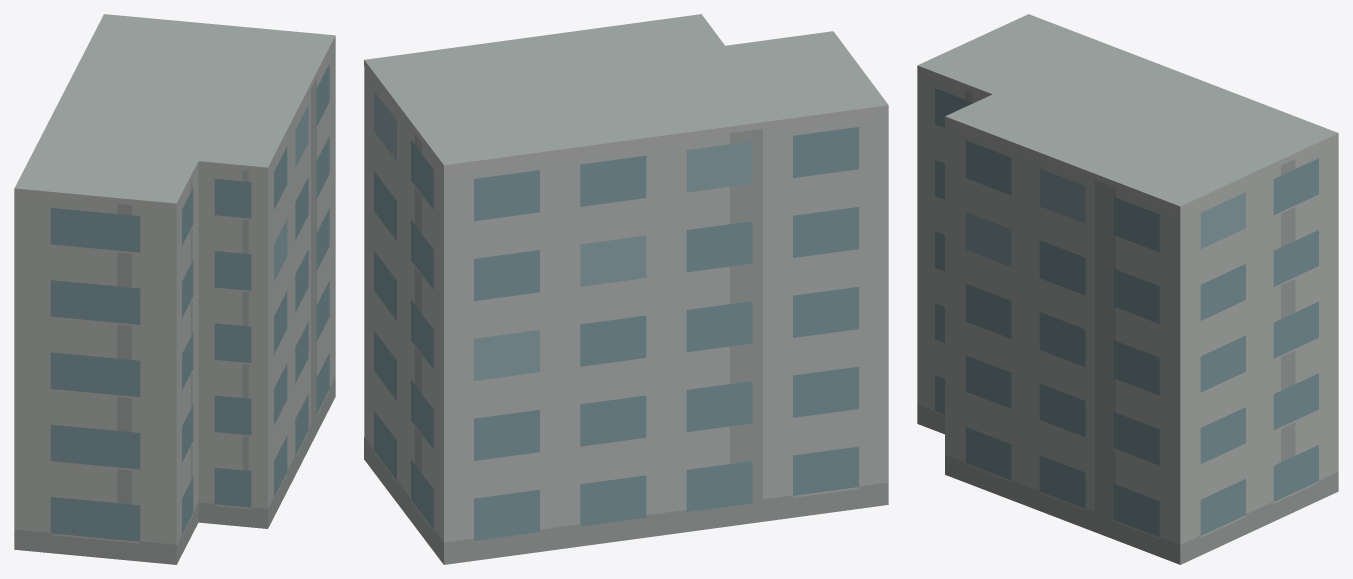
The model's file is survey-upis-32528813.glb.
3 renders of one model, left to right at view 1: azimuth 30°, elevation 25°; view 2: azimuth 150°, elevation 25°; view 3: azimuth 270°, elevation 25°, orthographic. The views are drawn at different scales.
Parts seen in each view (by area): view 1: survey-upis-32528813.tmp; view 2: survey-upis-32528813.tmp; view 3: survey-upis-32528813.tmp.
Part boxes in pixels (box(x1,y1,x2,y2)): survey-upis-32528813.tmp: box(14, 14, 335, 564); survey-upis-32528813.tmp: box(364, 14, 888, 564); survey-upis-32528813.tmp: box(917, 14, 1338, 564).
Size of the model in its own units: 17.58 by 15.25 by 16.26.
